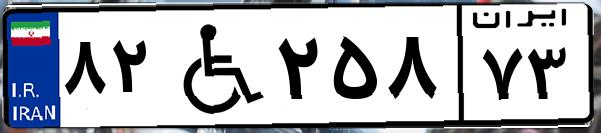2: (270, 28, 330, 110), (110, 28, 158, 98)
3: (525, 38, 570, 115)
5: (330, 28, 385, 110)
7: (475, 38, 525, 113)
8: (385, 28, 445, 110), (57, 26, 110, 100)
ژ (معلولین و جانبازان): (158, 12, 270, 120)
